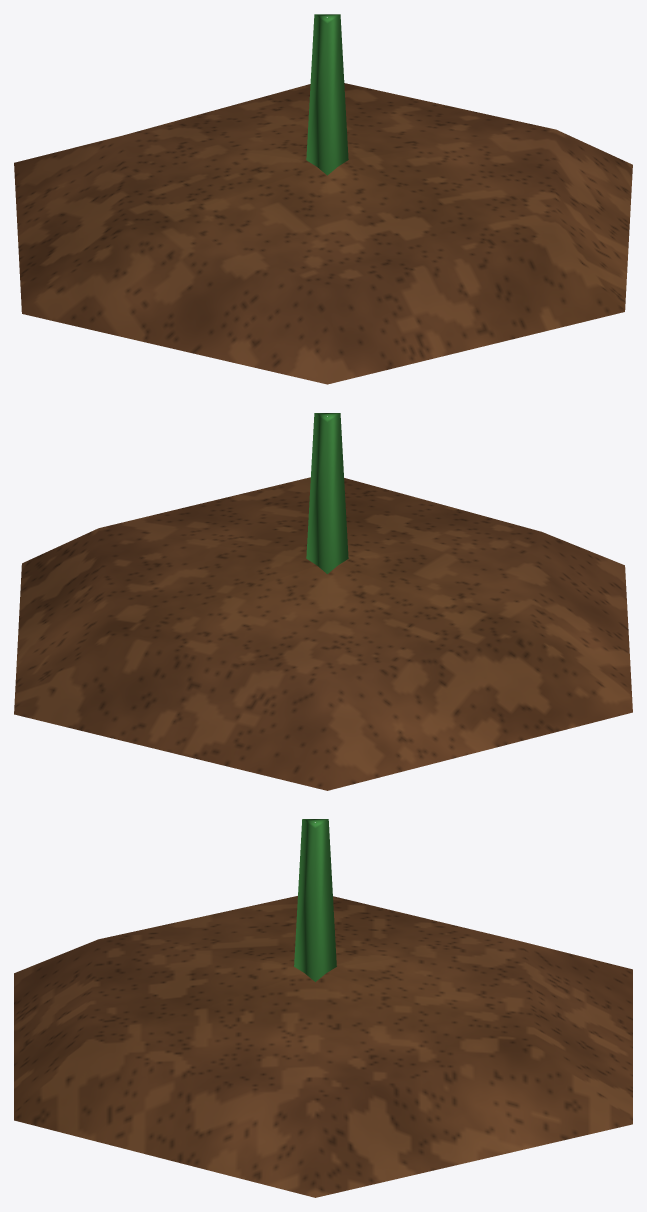
File: plant-strawberry-2-far.glb
3 views of the same model, one above another, from view 1: azimuth 30°, elevation 25°; view 2: azimuth 150°, elevation 25°; view 3: azimuth 270°, elevation 25° (orthographic).
Visible parts, largest first — view 1: plant-strawberry-2-far; view 2: plant-strawberry-2-far; view 3: plant-strawberry-2-far.
Boxes of the visible parts, x1,y1,x2,y2 form: plant-strawberry-2-far: (14, 14, 632, 384); plant-strawberry-2-far: (14, 413, 632, 790); plant-strawberry-2-far: (14, 819, 632, 1197).
Bounding box in the file's own units: 0.84 × 0.2912 × 0.7275.
Materials: 3 (1 with a texture image).
